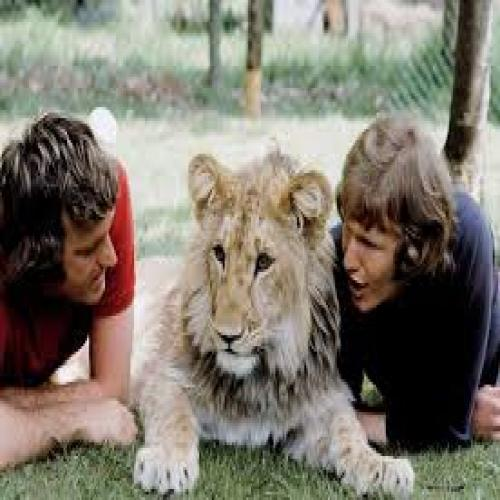lion-endangered: (132, 154, 413, 500)
